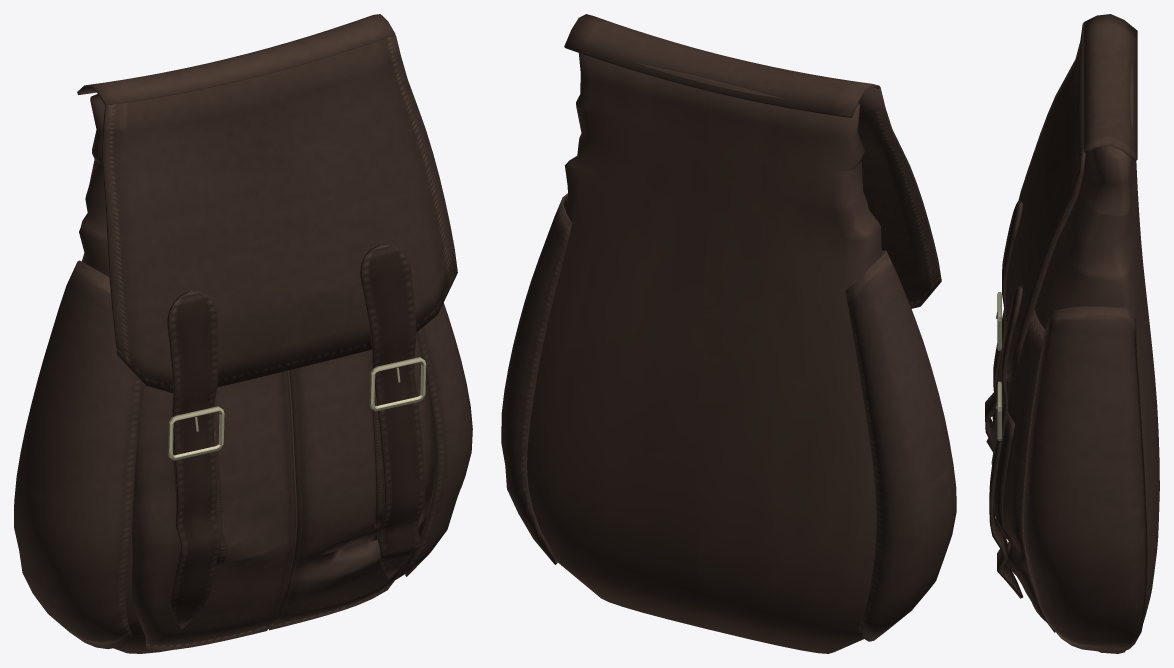
File: MillooSmoothDarkLeather.glb
3 renders of one model, left to right at view 1: azimuth 30°, elevation 25°; view 2: azimuth 150°, elevation 25°; view 3: azimuth 270°, elevation 25°, orthographic. The views are drawn at different scales.
Parts seen in each view (by area): view 1: Smooth dark leather Game Mesh; view 2: Smooth dark leather Game Mesh; view 3: Smooth dark leather Game Mesh.
Boxes of the visible parts, x1,y1,x2,y2 form: Smooth dark leather Game Mesh: [14, 14, 472, 653]; Smooth dark leather Game Mesh: [501, 14, 956, 653]; Smooth dark leather Game Mesh: [985, 14, 1159, 653].
Bounding box in the file's own units: 0.9344 × 1.19 × 0.3613.
Materials: 1 (1 with a texture image).
